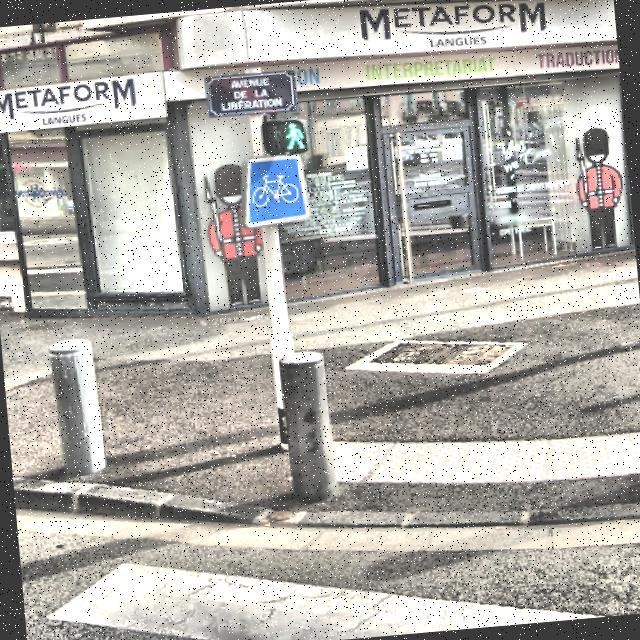green_light: (278, 116, 305, 151)
